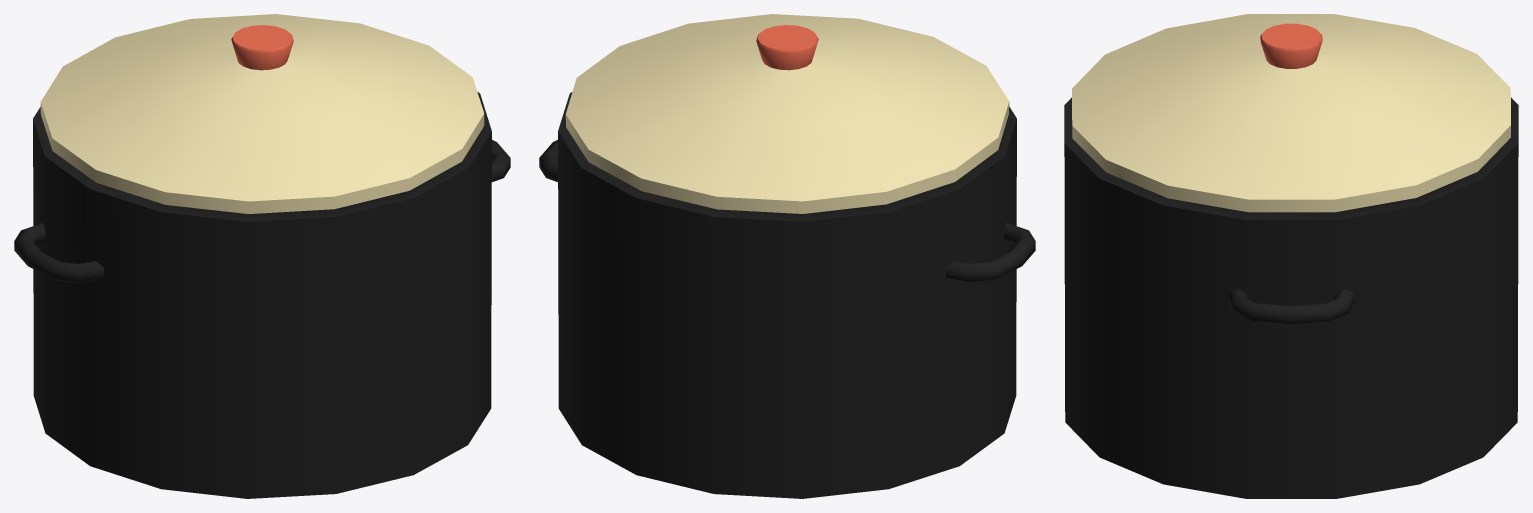
The model's file is LP_pot1.obj.
3 renders of one model, left to right at view 1: azimuth 30°, elevation 25°; view 2: azimuth 150°, elevation 25°; view 3: azimuth 270°, elevation 25°, orthographic.
Visible parts, largest first — view 1: LP_pot1.001, LP_pot1_lid.001; view 2: LP_pot1.001, LP_pot1_lid.001; view 3: LP_pot1.001, LP_pot1_lid.001.
Boxes of the visible parts, x1=… form: LP_pot1.001: x1=14, y1=92, x2=510, y2=498; LP_pot1_lid.001: x1=40, y1=14, x2=484, y2=213; LP_pot1.001: x1=539, y1=92, x2=1035, y2=498; LP_pot1_lid.001: x1=565, y1=14, x2=1009, y2=213; LP_pot1.001: x1=1064, y1=97, x2=1518, y2=498; LP_pot1_lid.001: x1=1072, y1=14, x2=1510, y2=212.
Bounding box in the file's own units: 0.4373 × 0.3247 × 0.364.
